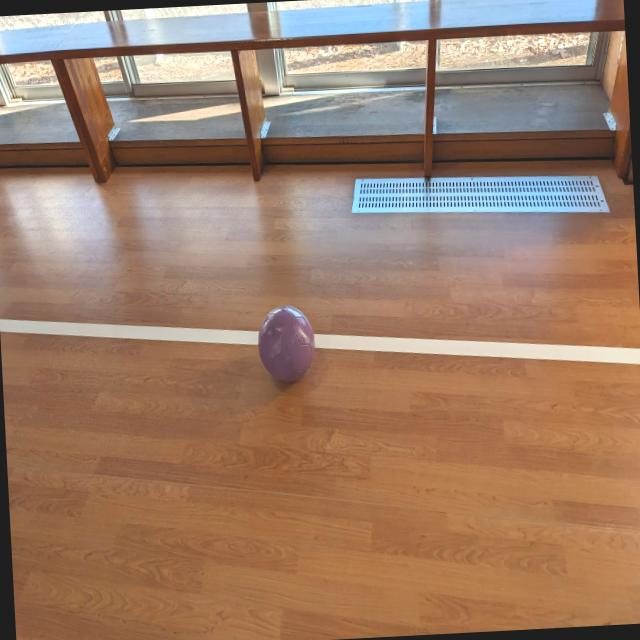purple_ball: (255, 303, 316, 387)
